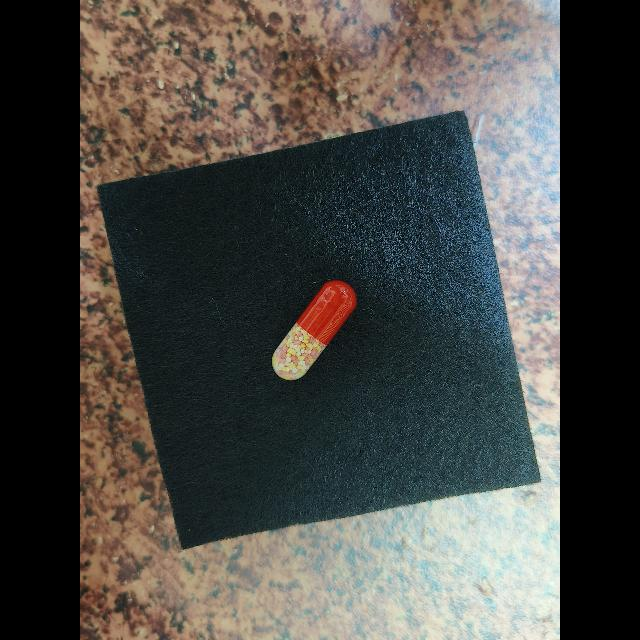Intact Capsule: (272, 280, 357, 381)
